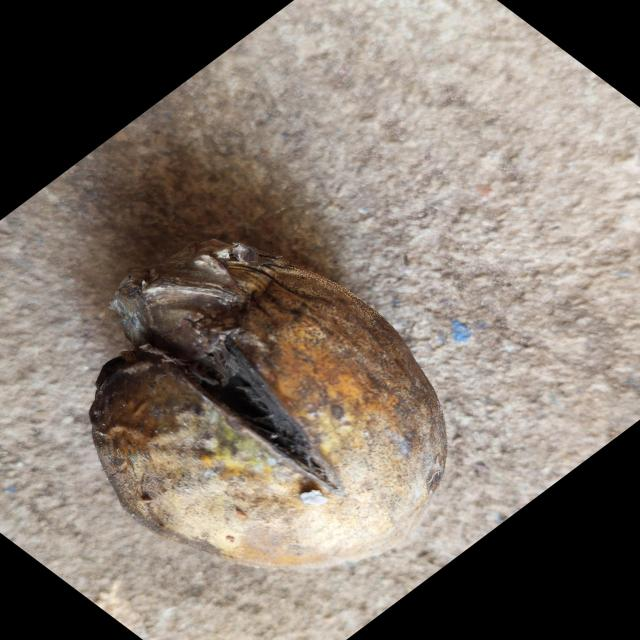damaged: (88, 239, 446, 571)
